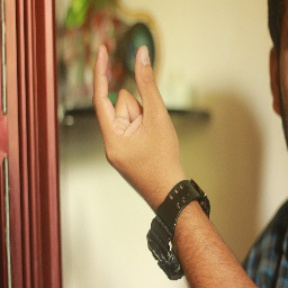U: (85, 40, 176, 176)
